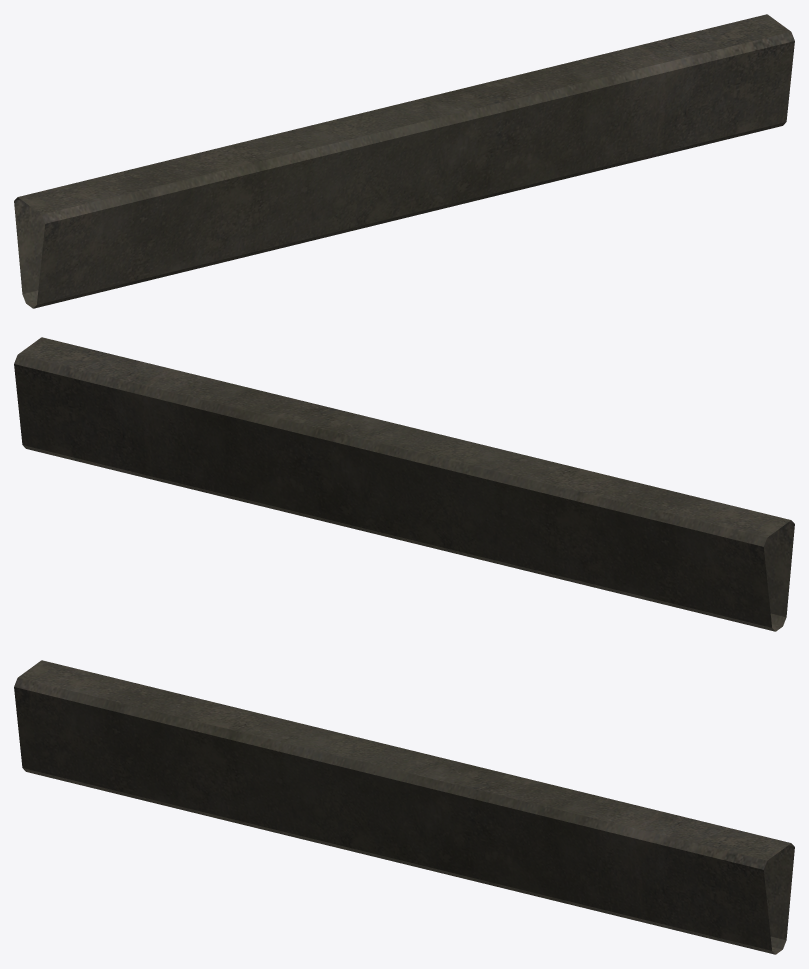
File: beam_3.obj
3 views of the same model, one above another, from view 1: azimuth 30°, elevation 25°; view 2: azimuth 150°, elevation 25°; view 3: azimuth 330°, elevation 25° (orthographic).
Parts seen in each view (by area): view 1: beam_3; view 2: beam_3; view 3: beam_3.
Boxes of the visible parts, <box> form: beam_3: <box>14,14,794,308</box>; beam_3: <box>14,337,794,631</box>; beam_3: <box>14,660,794,954</box>.
Bounding box in the file's own units: 3.6 × 0.46 × 0.26.
